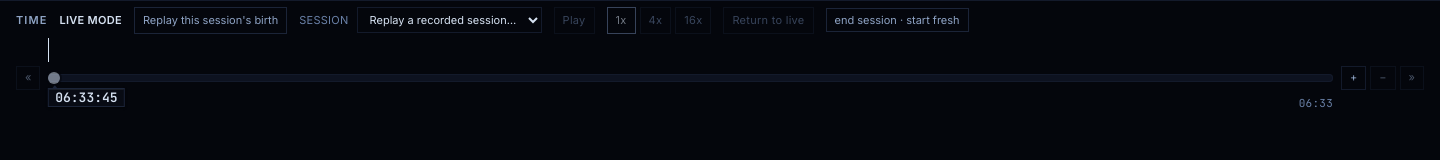
ReplayControls › returning to live clears the session and disables the transport
Select "1970-01-01T00:00:01.000Z" in the dropdown labelled "session" at {"x": 449, "y": 20}, box left=357, top=7, right=542, bottom=33
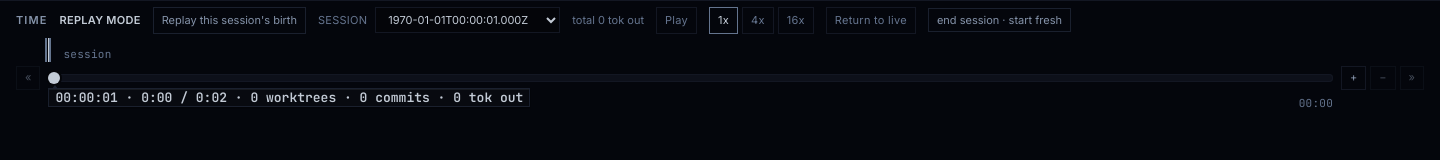
Result: the text "Replay mode" is shown at left=60, top=12, right=141, bottom=28
Click the button "Return to live" at {"x": 871, "y": 20}, box left=826, top=7, right=916, bottom=34
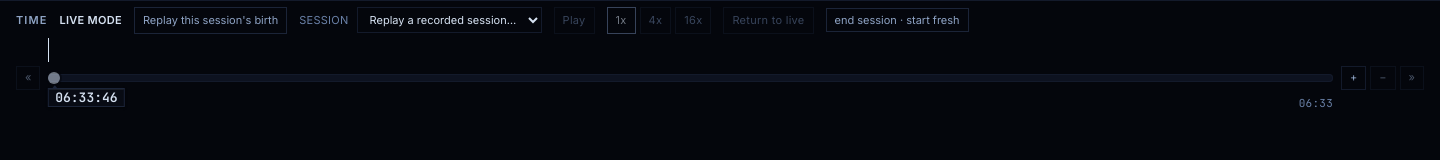
Result: the text "Live mode" is shown at left=60, top=12, right=122, bottom=28
